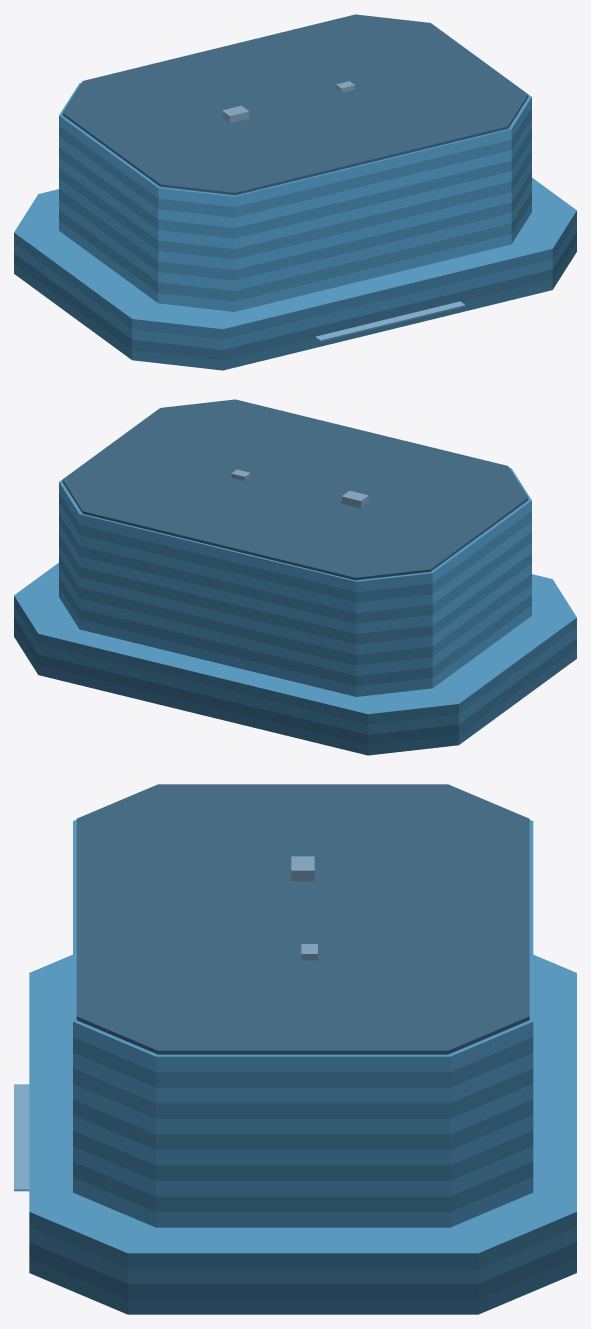
3 views of the same model, one above another, from view 1: azimuth 30°, elevation 25°; view 2: azimuth 150°, elevation 25°; view 3: azimuth 270°, elevation 25° (orthographic). The views are drawn at different scales.
Parts seen in each view (by area): view 1: shell; view 2: shell; view 3: shell.
Boxes of the visible parts, x1,y1,x2,y2 form: shell: (14,14,576,370); shell: (14,399,576,755); shell: (14,784,576,1314).
Size of the model in its own units: 160 by 57.2 by 118.
